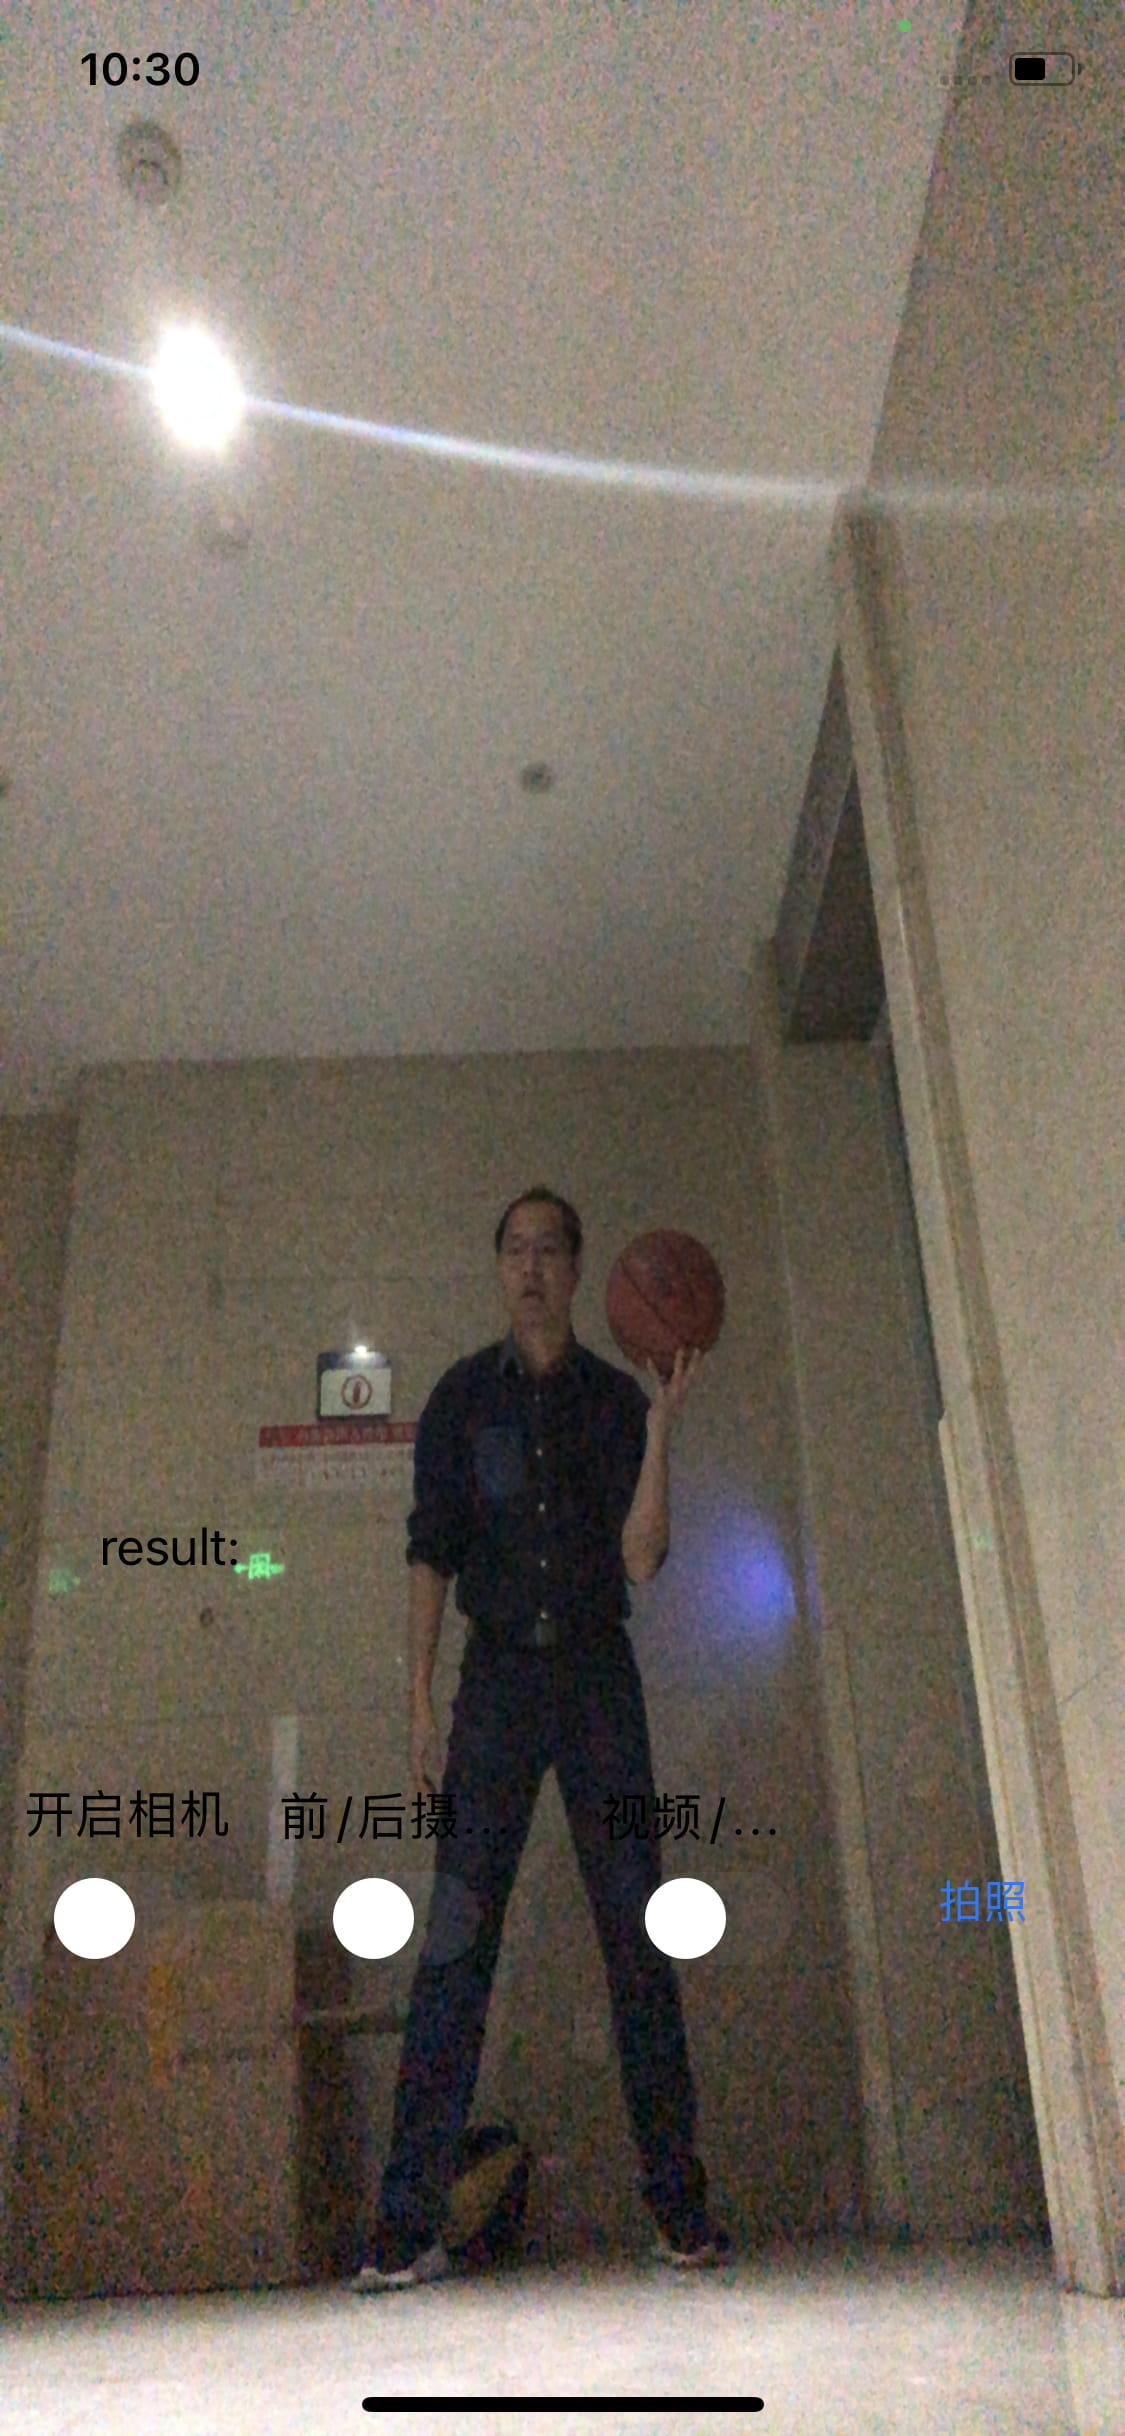ball: (606, 1230, 726, 1373)
